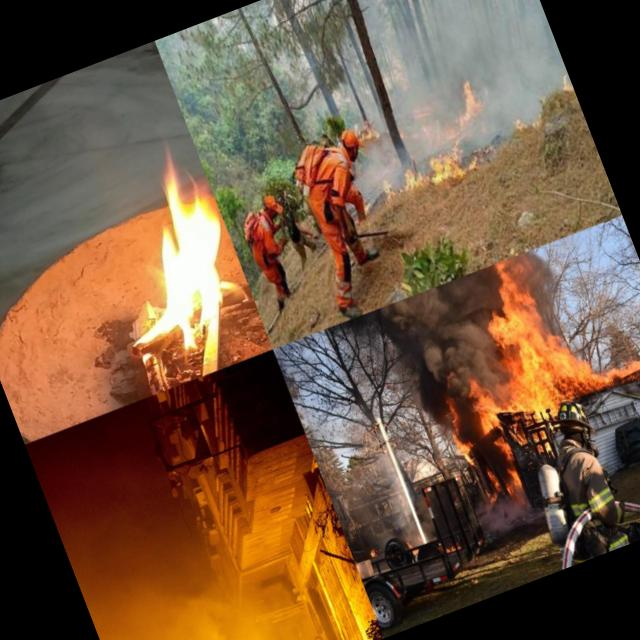fire: (58, 142, 264, 378), (466, 258, 582, 417), (373, 138, 468, 210), (464, 374, 516, 454), (433, 403, 482, 474), (440, 71, 492, 131), (566, 346, 604, 397), (596, 353, 640, 389), (511, 102, 551, 136), (550, 66, 576, 98), (502, 460, 524, 490), (441, 536, 464, 556)
smoke: (356, 270, 522, 431), (332, 0, 554, 104), (474, 43, 566, 136), (381, 82, 458, 156), (464, 483, 538, 541), (452, 112, 524, 170)
